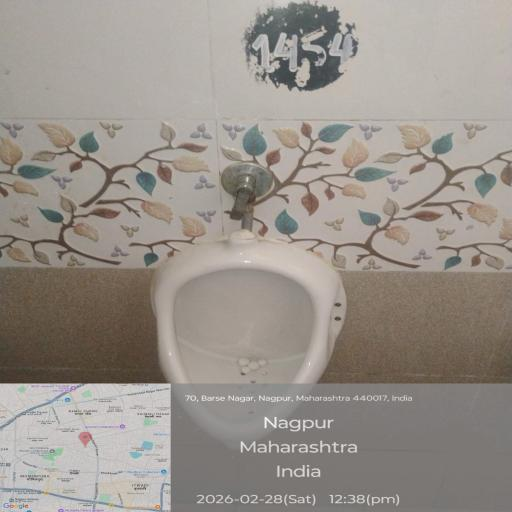clean_floor: (92, 2, 452, 163)
clean_urinal: (157, 239, 376, 454)
